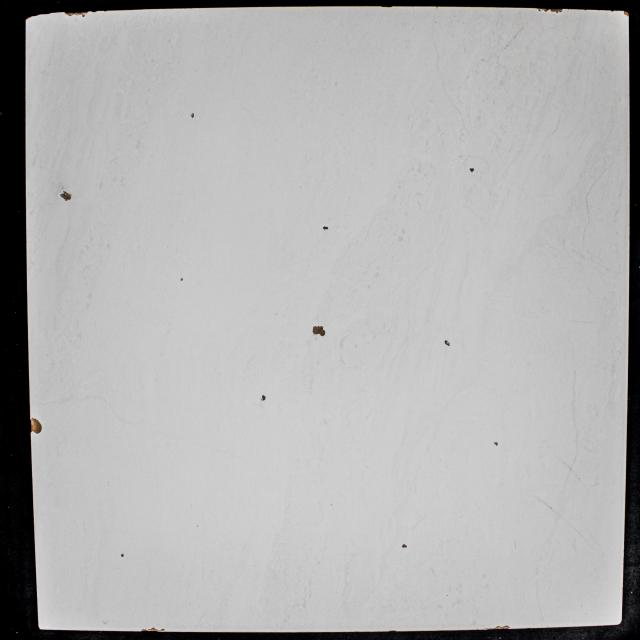edge-chipping: (30, 418, 42, 434), (64, 12, 90, 18), (148, 627, 165, 632), (550, 8, 563, 14), (483, 626, 501, 630), (501, 625, 511, 630), (537, 8, 549, 12), (26, 13, 32, 20), (623, 10, 629, 17), (40, 12, 52, 15), (140, 628, 148, 632), (381, 6, 393, 8), (32, 14, 40, 16), (91, 10, 97, 12), (52, 12, 61, 13), (104, 10, 108, 12), (610, 10, 614, 12)
hole: (312, 325, 326, 337), (60, 190, 72, 202), (260, 395, 266, 401), (444, 340, 450, 346), (402, 544, 407, 548), (323, 226, 328, 230), (469, 168, 474, 172), (190, 113, 194, 118), (494, 442, 498, 446), (121, 554, 124, 557), (180, 278, 183, 281), (197, 525, 198, 527)
line: (452, 104, 472, 137), (430, 6, 438, 45), (435, 48, 440, 69)
